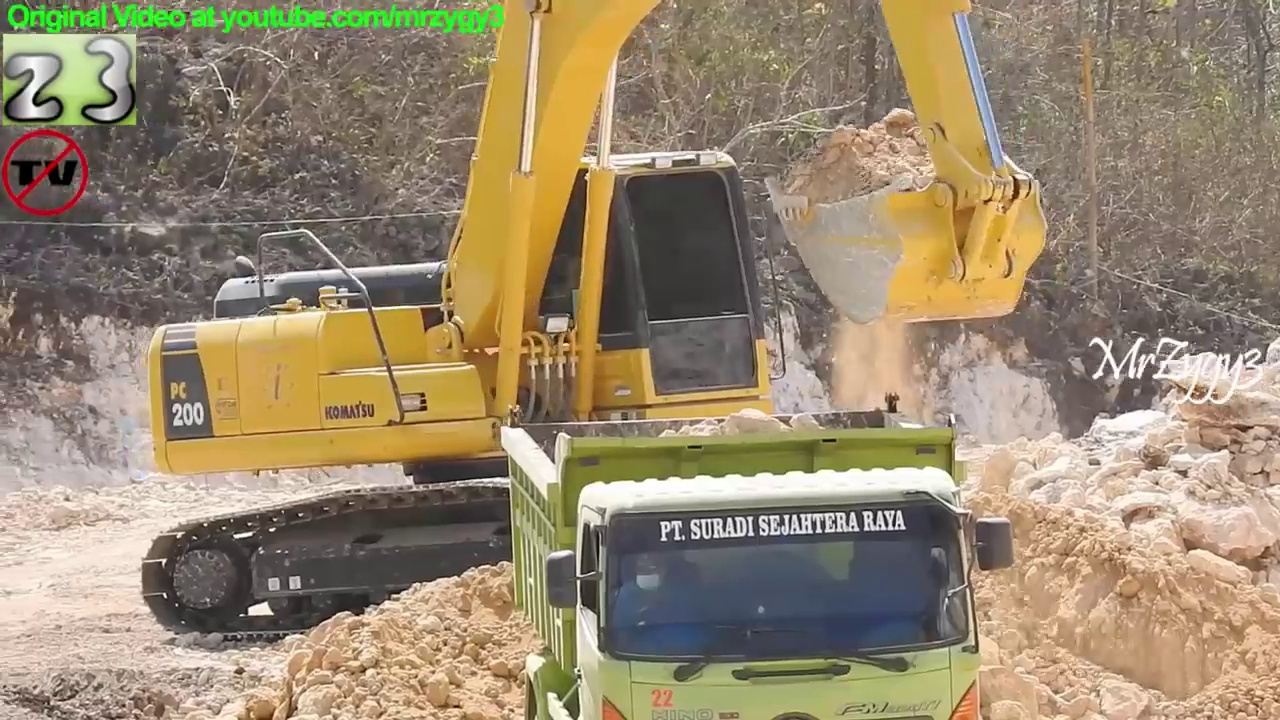excavator: (135, 1, 1058, 658)
truck: (496, 392, 1020, 720)
